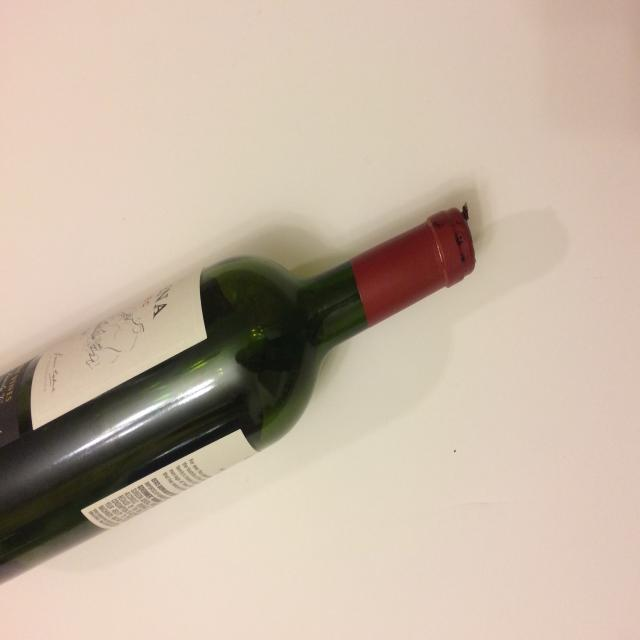glass: (1, 154, 490, 608)
